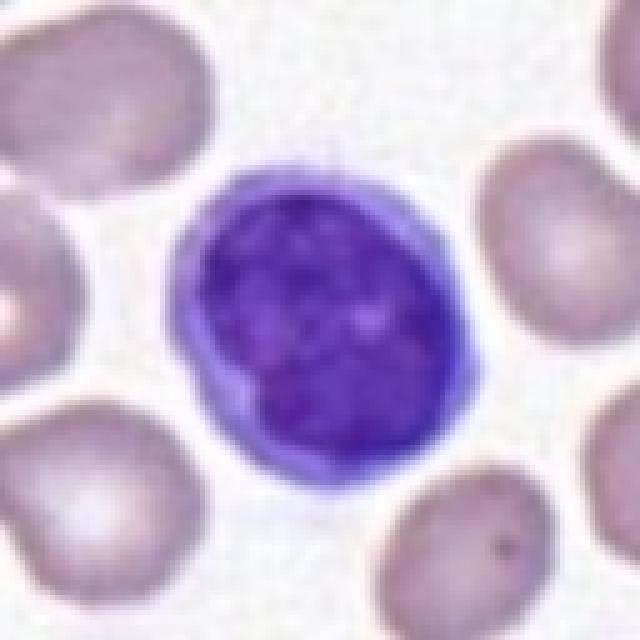lympho: (154, 154, 495, 496)
